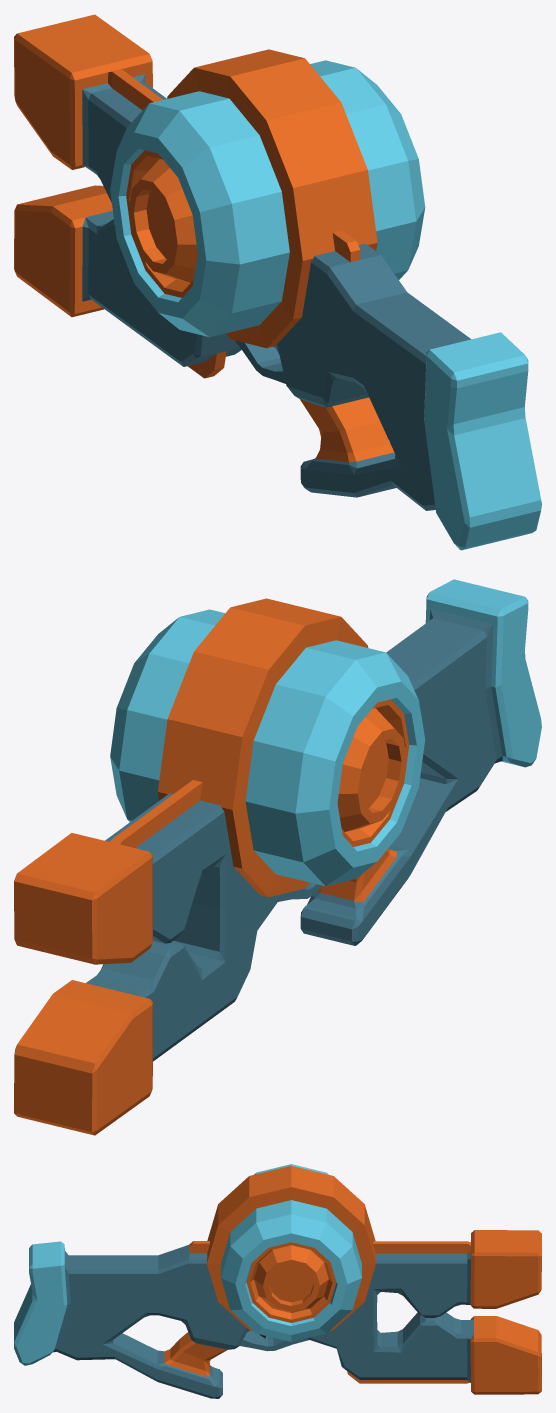
The model's file is LightningGun.glb.
3 renders of one model, top to bottom at view 1: azimuth 30°, elevation 25°; view 2: azimuth 150°, elevation 25°; view 3: azimuth 270°, elevation 25°, orthographic. The views are drawn at different scales.
Parts seen in each view (by area): view 1: Lightning Gun; view 2: Lightning Gun; view 3: Lightning Gun.
Part boxes in pixels (x1=…): Lightning Gun: x1=14, y1=14, x2=541, y2=550; Lightning Gun: x1=14, y1=579, x2=541, y2=1135; Lightning Gun: x1=14, y1=1164, x2=541, y2=1398.
Size of the model in its own units: 1.4 by 2.16 by 4.8.
